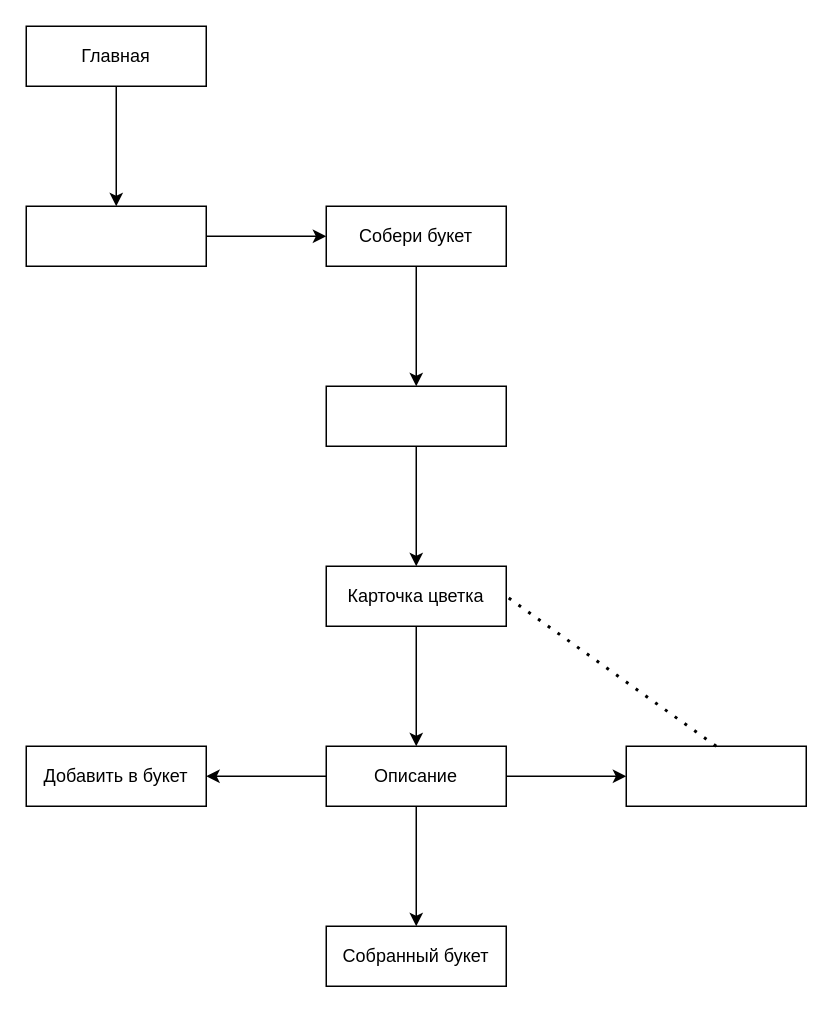
The diagram is 833 pixels wide and 1013 high, and some of its shapes have lost their labels. Here are the shapes that lost their labels. From the top down, the centre of each, then its label:
At (115,235): "Каталог".
At (415,415): "Круговая витрина".
At (715,775): "Рекомендации".
